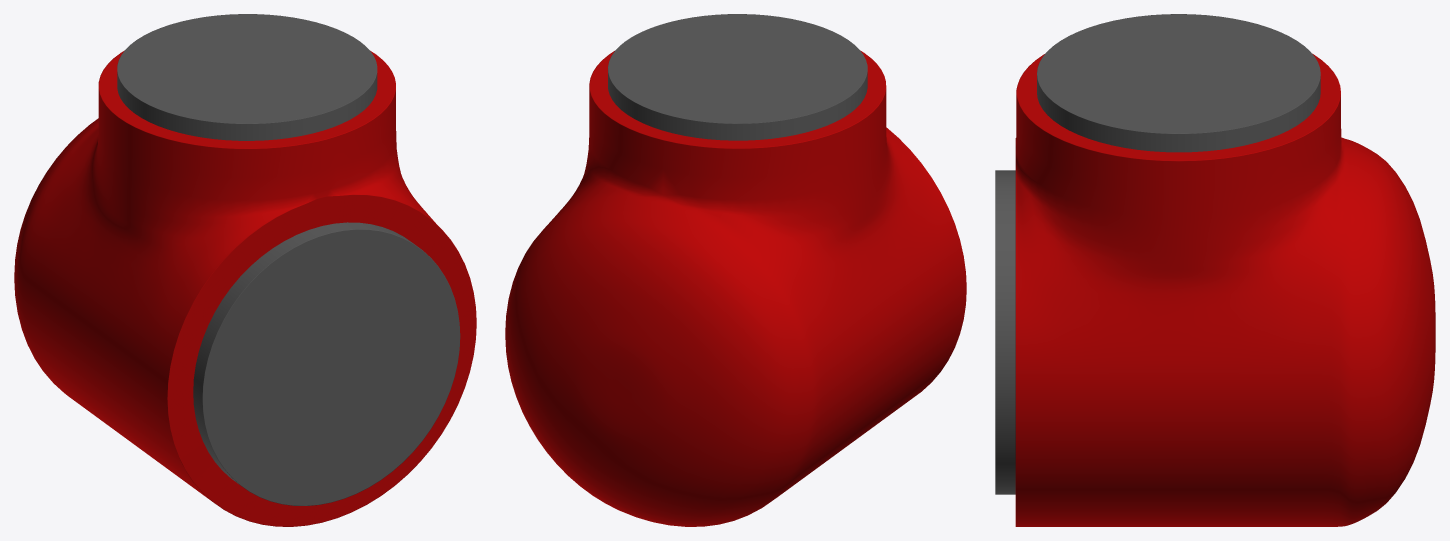
3 views of the same model, side by side, from view 1: azimuth 30°, elevation 25°; view 2: azimuth 150°, elevation 25°; view 3: azimuth 270°, elevation 25° (orthographic). The views are drawn at different scales.
Visible parts, largest first — view 1: Link06; view 2: Link06; view 3: Link06.
Boxes of the visible parts, x1,y1,x2,y2 form: Link06: (14, 14, 476, 526); Link06: (505, 14, 966, 526); Link06: (995, 14, 1435, 526).
Size of the model in its own units: 0.0955 by 0.108 by 0.1178.
